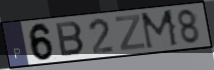2: (87, 17, 116, 55)
6: (28, 22, 57, 62)
8: (176, 7, 203, 45)
B: (54, 20, 87, 58)
M: (139, 8, 181, 51)
Z: (113, 13, 147, 52)
